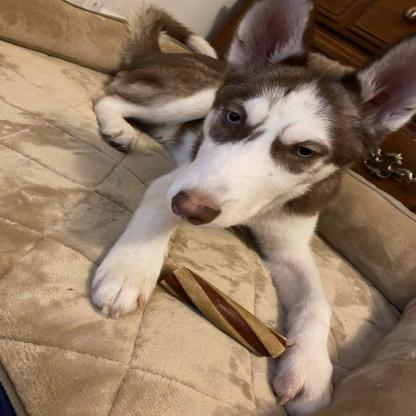dog: (85, 5, 416, 416)
